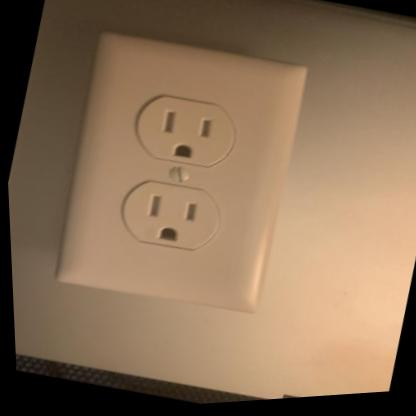OUTLET: (38, 17, 319, 332)
